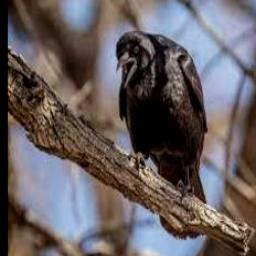Crow: (115, 30, 209, 240)
